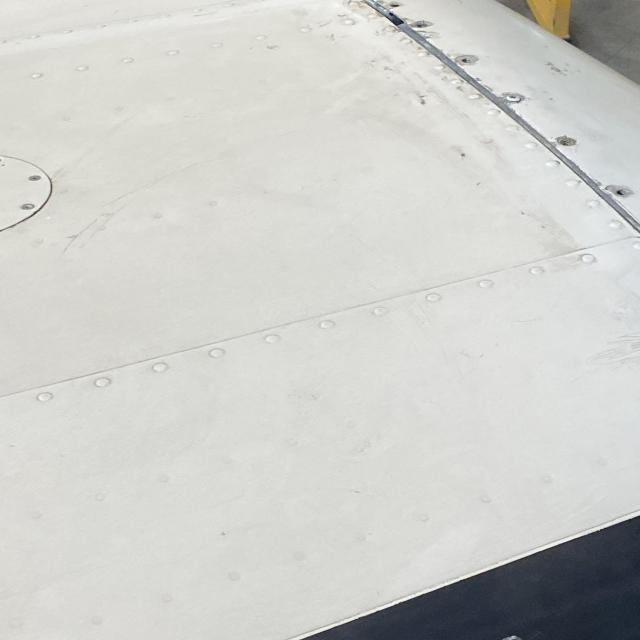Missing-head: (607, 184, 633, 197), (410, 19, 434, 28), (386, 0, 407, 10)
Scratch: (585, 290, 640, 367)
